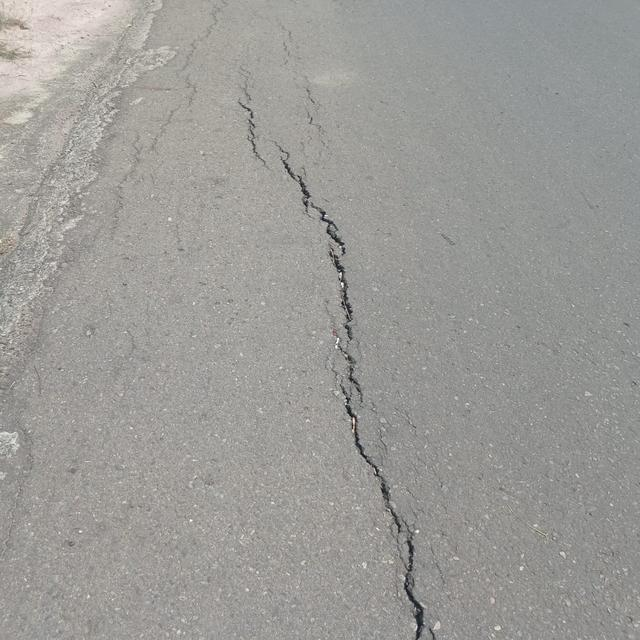Memanjang: (229, 89, 452, 640)
